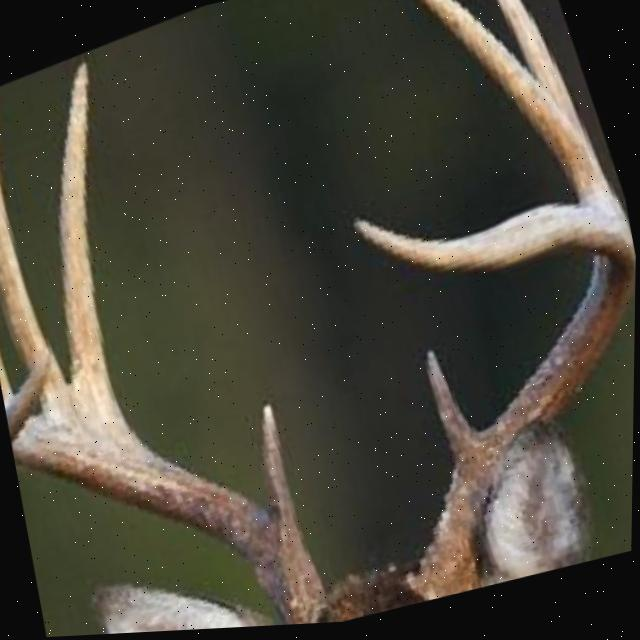L-F: (6, 348, 330, 628)
L-G1: (262, 405, 305, 541)
L-G2: (60, 63, 118, 400)
R-F: (352, 211, 637, 605)
R-G1: (424, 353, 486, 476)
R-G3: (414, 0, 632, 239)
